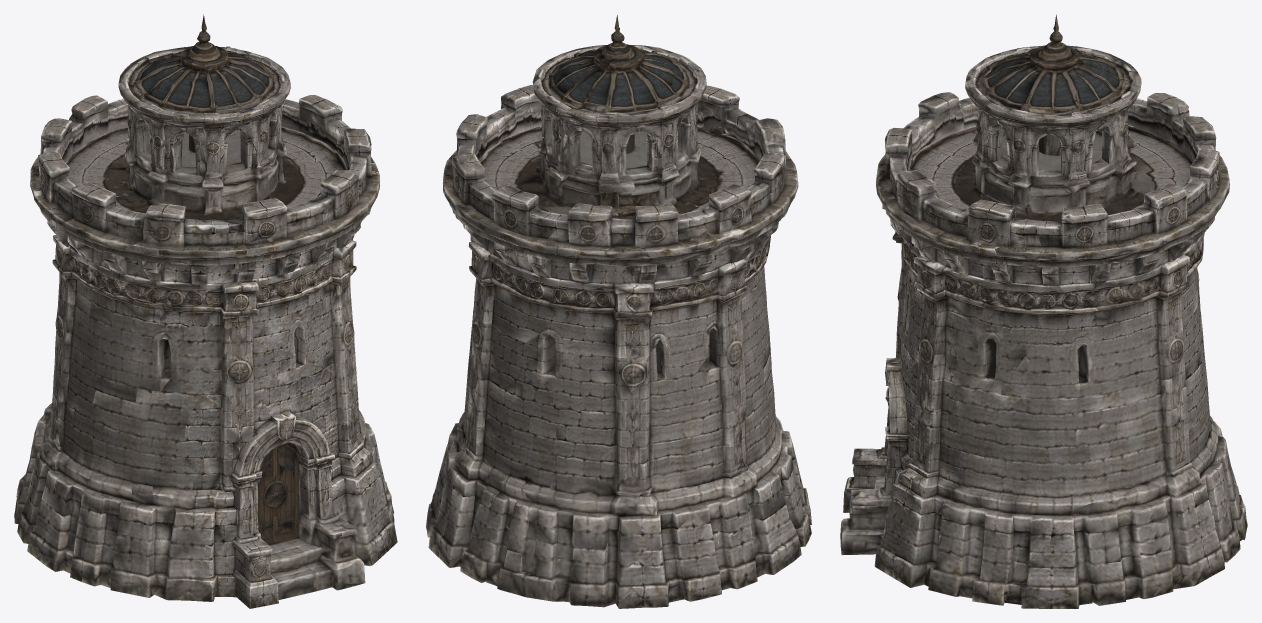
File: citadel_tower.glb
The picture shows the model from 3 angles, left to right: view 1: azimuth 30°, elevation 25°; view 2: azimuth 150°, elevation 25°; view 3: azimuth 270°, elevation 25°; orthographic projection.
Visible parts, largest first — view 1: citadel_tower; view 2: citadel_tower; view 3: citadel_tower.
Boxes of the visible parts, x1,y1,x2,y2 form: citadel_tower: (14,14,397,608); citadel_tower: (426,15,811,608); citadel_tower: (840,14,1247,608).
Bounding box in the file's own units: 1.3 × 1.9 × 1.37.
1 material, 1 textured.
